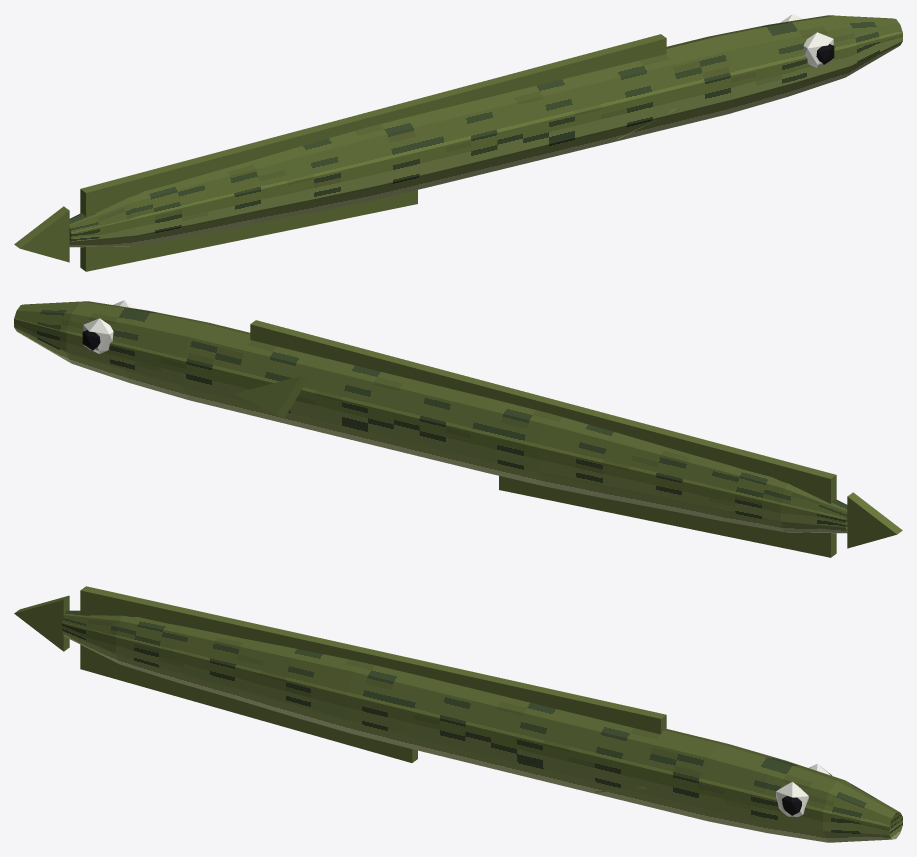
File: moray_eel.glb
3 renders of one model, top to bottom at view 1: azimuth 30°, elevation 25°; view 2: azimuth 150°, elevation 25°; view 3: azimuth 330°, elevation 25°, orthographic.
Visible parts, largest first — view 1: fish_moray_eel; view 2: fish_moray_eel; view 3: fish_moray_eel.
Boxes of the visible parts, left/top/right/bottom form: fish_moray_eel: left=14, top=14, right=902, bottom=271; fish_moray_eel: left=14, top=300, right=902, bottom=557; fish_moray_eel: left=14, top=586, right=902, bottom=842.
Bounding box in the file's own units: 1.06 × 0.121 × 0.1047.
4 materials, 1 textured.
